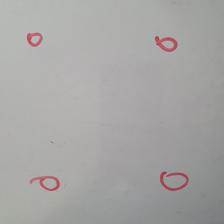simple-chemical-circle: (160, 172, 189, 190), (30, 176, 60, 190), (155, 36, 178, 52), (27, 32, 43, 47)
